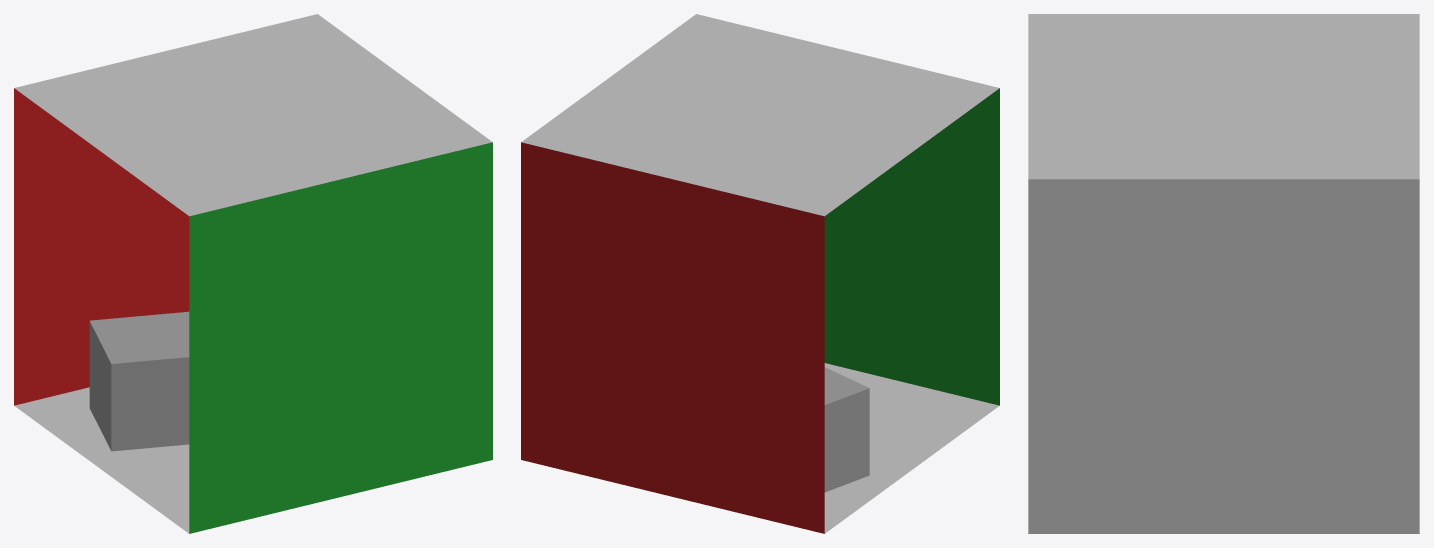
File: cornell.obj
3 views of the same model, side by side, from view 1: azimuth 30°, elevation 25°; view 2: azimuth 150°, elevation 25°; view 3: azimuth 270°, elevation 25° (orthographic). The views are drawn at different scales.
Parts seen in each view (by area): view 1: right_green, ceiling, left_red, floor, short_box_right, short_box_top, short_box_front; view 2: left_red, ceiling, right_green, floor, short_box_front, short_box_top; view 3: back, ceiling.
Part boxes in pixels (left/top/right/bottom): right_green: left=189, top=142, right=492, bottom=533; ceiling: left=14, top=14, right=492, bottom=216; left_red: left=14, top=88, right=189, bottom=405; floor: left=14, top=387, right=189, bottom=533; short_box_right: left=111, top=357, right=189, bottom=451; short_box_top: left=90, top=311, right=189, bottom=363; short_box_front: left=89, top=321, right=111, bottom=450; left_red: left=521, top=142, right=824, bottom=533; ceiling: left=521, top=14, right=999, bottom=216; right_green: left=824, top=88, right=999, bottom=405; floor: left=824, top=363, right=999, bottom=533; short_box_front: left=824, top=388, right=869, bottom=492; short_box_top: left=824, top=367, right=869, bottom=404; back: left=1028, top=179, right=1419, bottom=533; ceiling: left=1028, top=14, right=1419, bottom=179.
Size of the model in its own units: 2 by 2 by 2.
